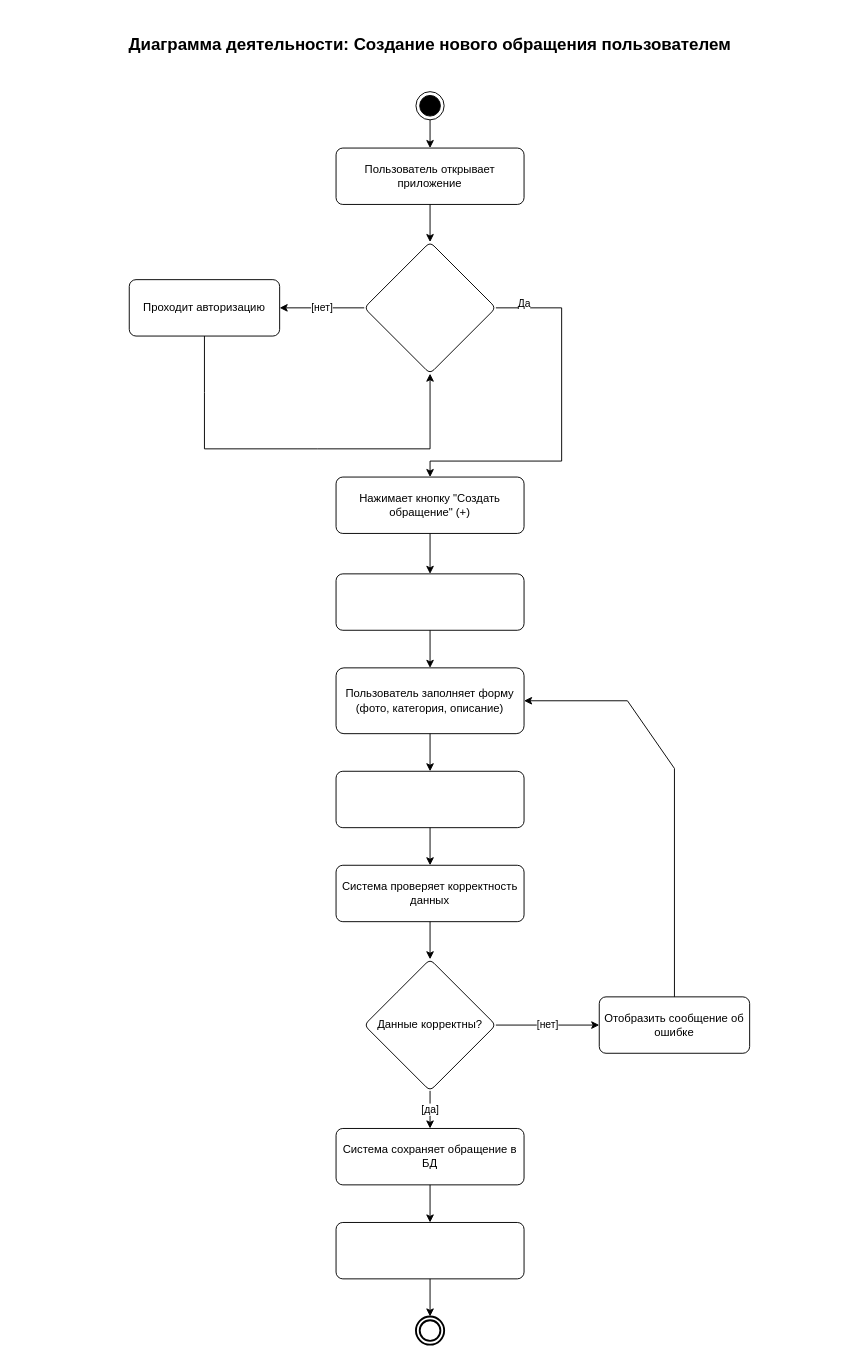
This 859x1361 diagram has some shape labels left out. Here are the shapes that lost their labels. From the top down, the box of each, then its label:
(363, 241, 496, 374): Пользователь авторизован?
(335, 573, 524, 630): Система определяет геолокацию
(335, 770, 524, 828): Нажимает кнопку "Отправить"
(335, 1222, 524, 1279): Отобразить сообщение об успехе
